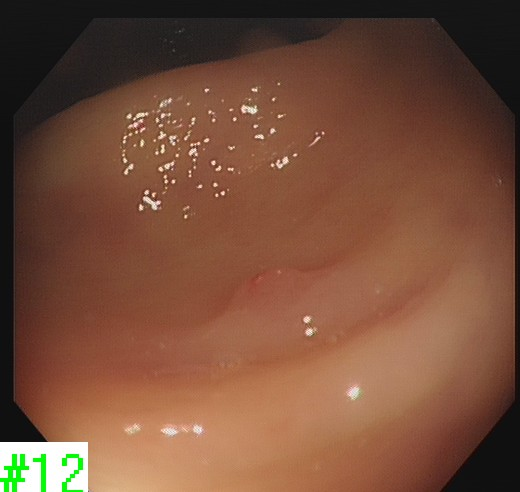adenoma: (223, 262, 313, 311)
